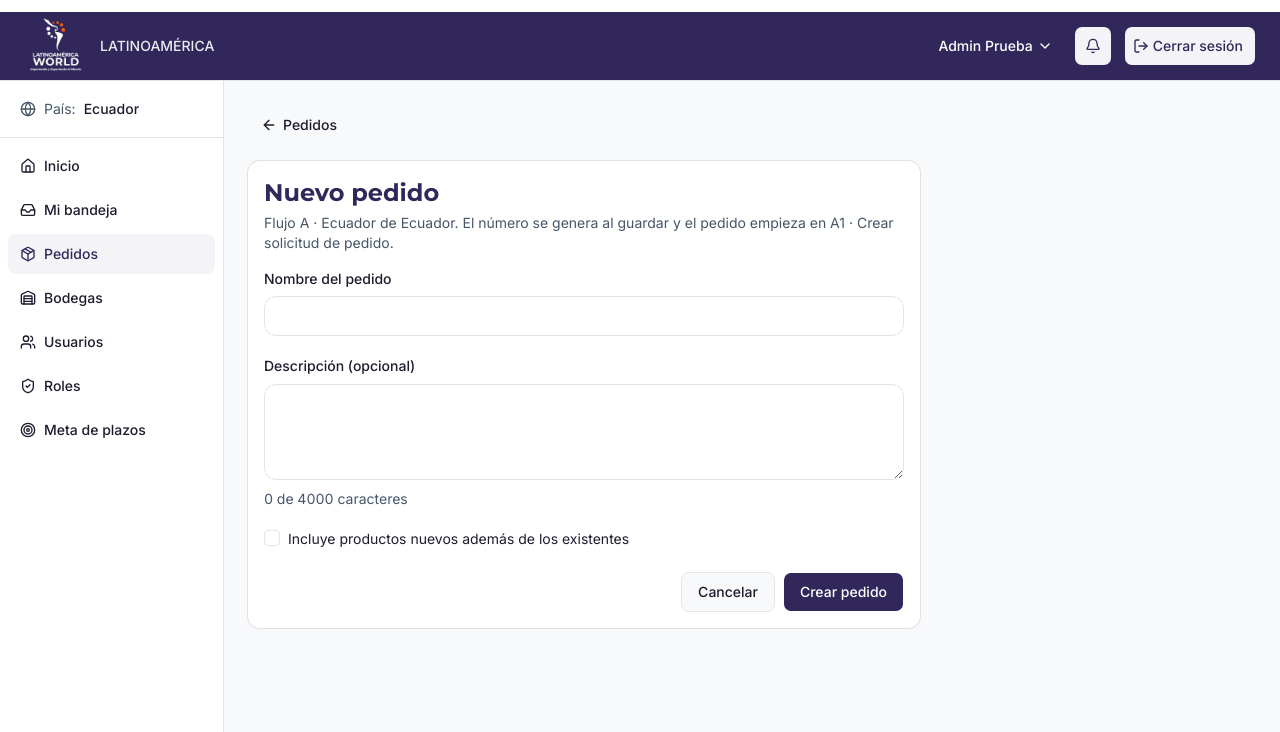
it: Crear pedido › el admin crea un pedido del flujo A y pasa a su detalle
Type "  Lámparas ficticias  " into the field labelled "Nombre del pedido" at (584, 316), box [264,296,904,336]
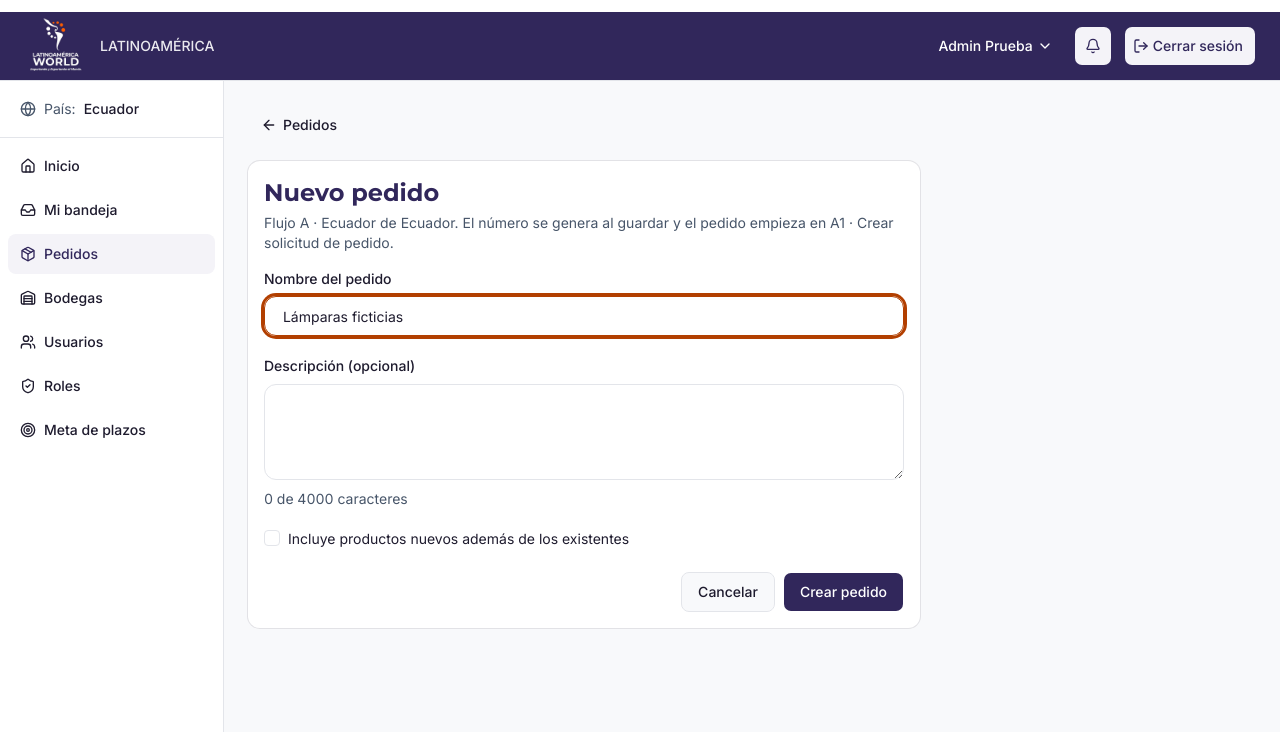
Click the checkbox named "Incluye productos nuevos además de los existentes" at (272, 538), box [264,530,280,546]
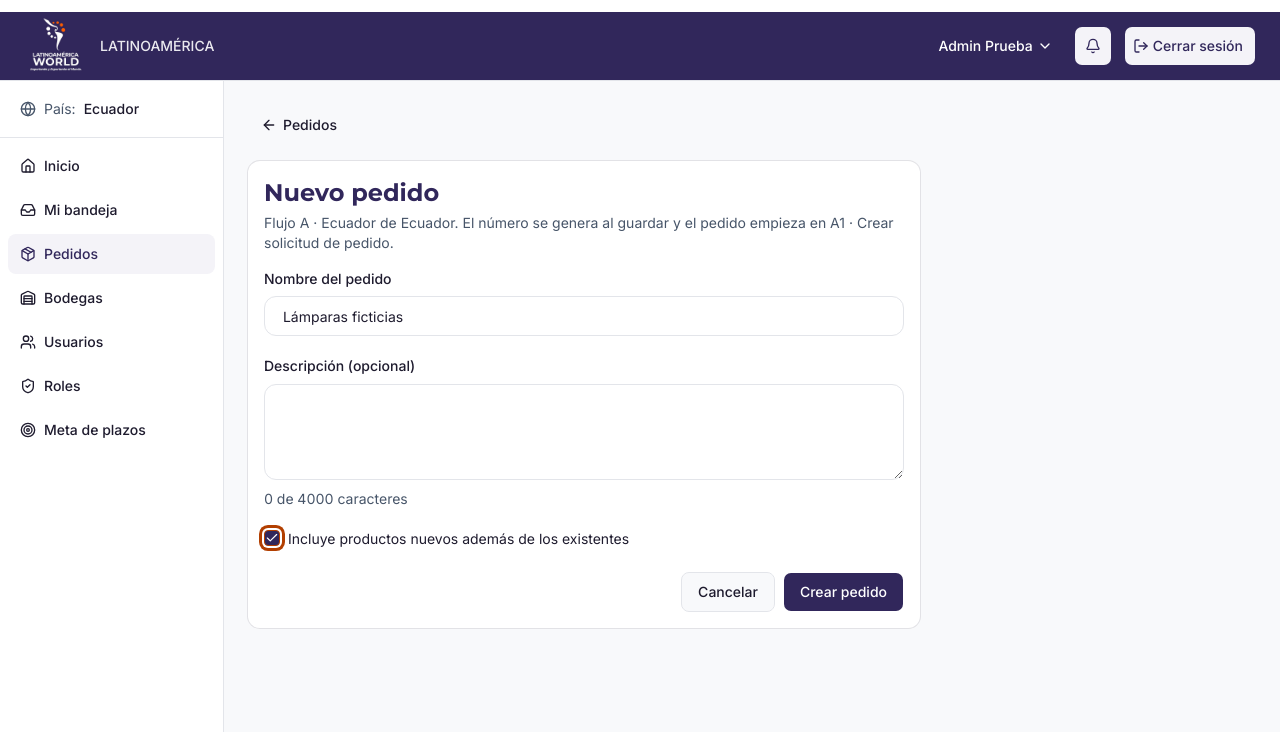
Click the button "Crear pedido" at (844, 592), box [783,572,904,612]
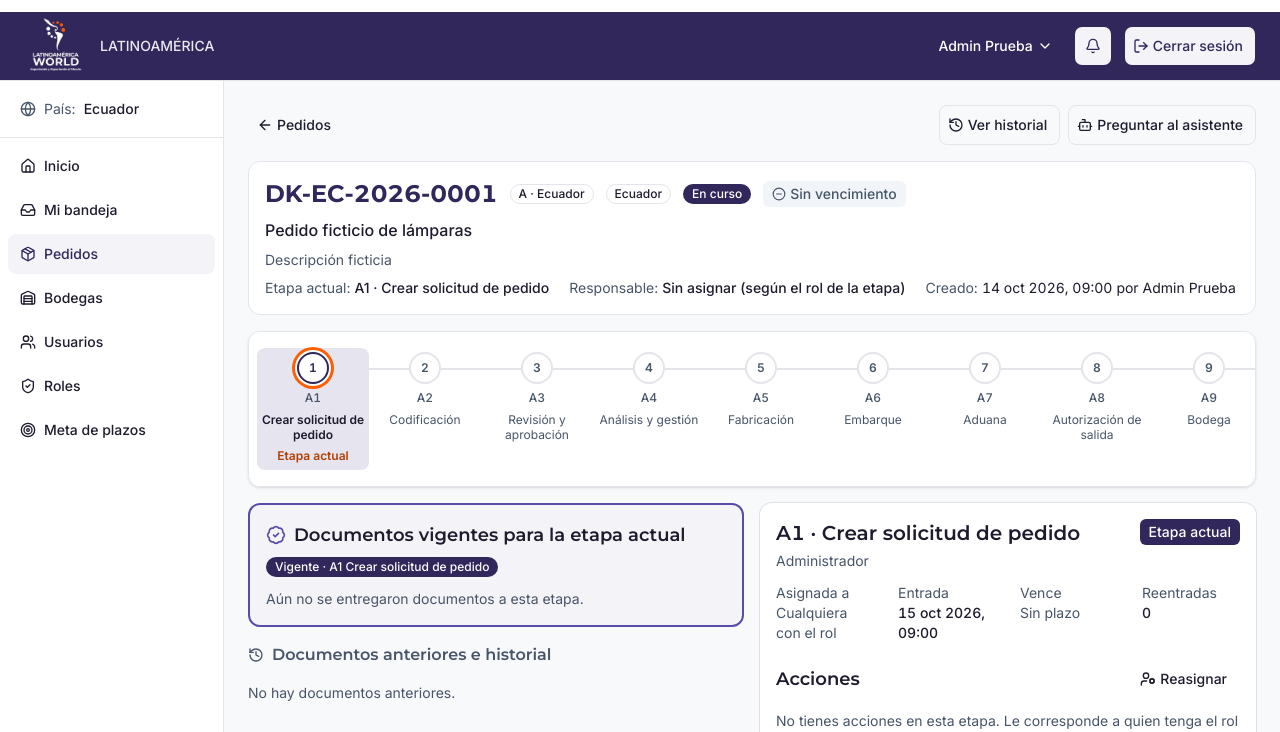
Result: the heading "DK-EC-2026-0001" is shown at [265,178,498,210]
